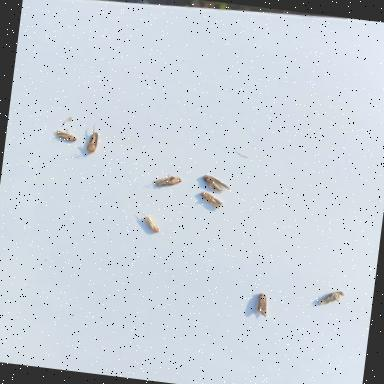pbw: (198, 170, 234, 196), (80, 120, 102, 157), (150, 168, 184, 190), (195, 187, 226, 210), (252, 288, 274, 320), (317, 286, 345, 309), (136, 210, 164, 232), (54, 128, 78, 144)
